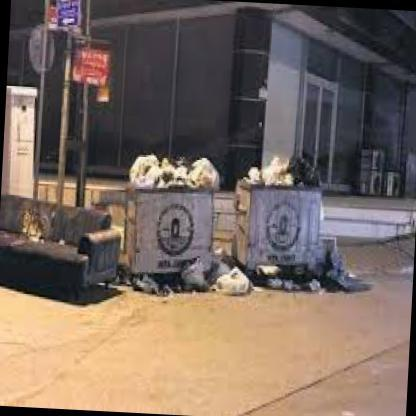Garbage: (126, 145, 214, 188), (239, 150, 321, 192), (121, 258, 206, 296), (312, 253, 368, 307), (208, 266, 250, 306), (267, 272, 318, 296)
